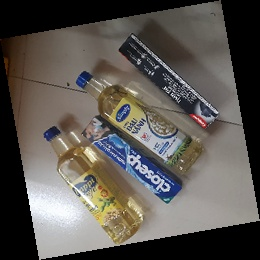CloseUp Tuyet: (80, 115, 184, 203)
Colgate Than: (116, 31, 223, 133)
Happy Soya: (42, 125, 144, 245)
Simply: (73, 69, 205, 174)
